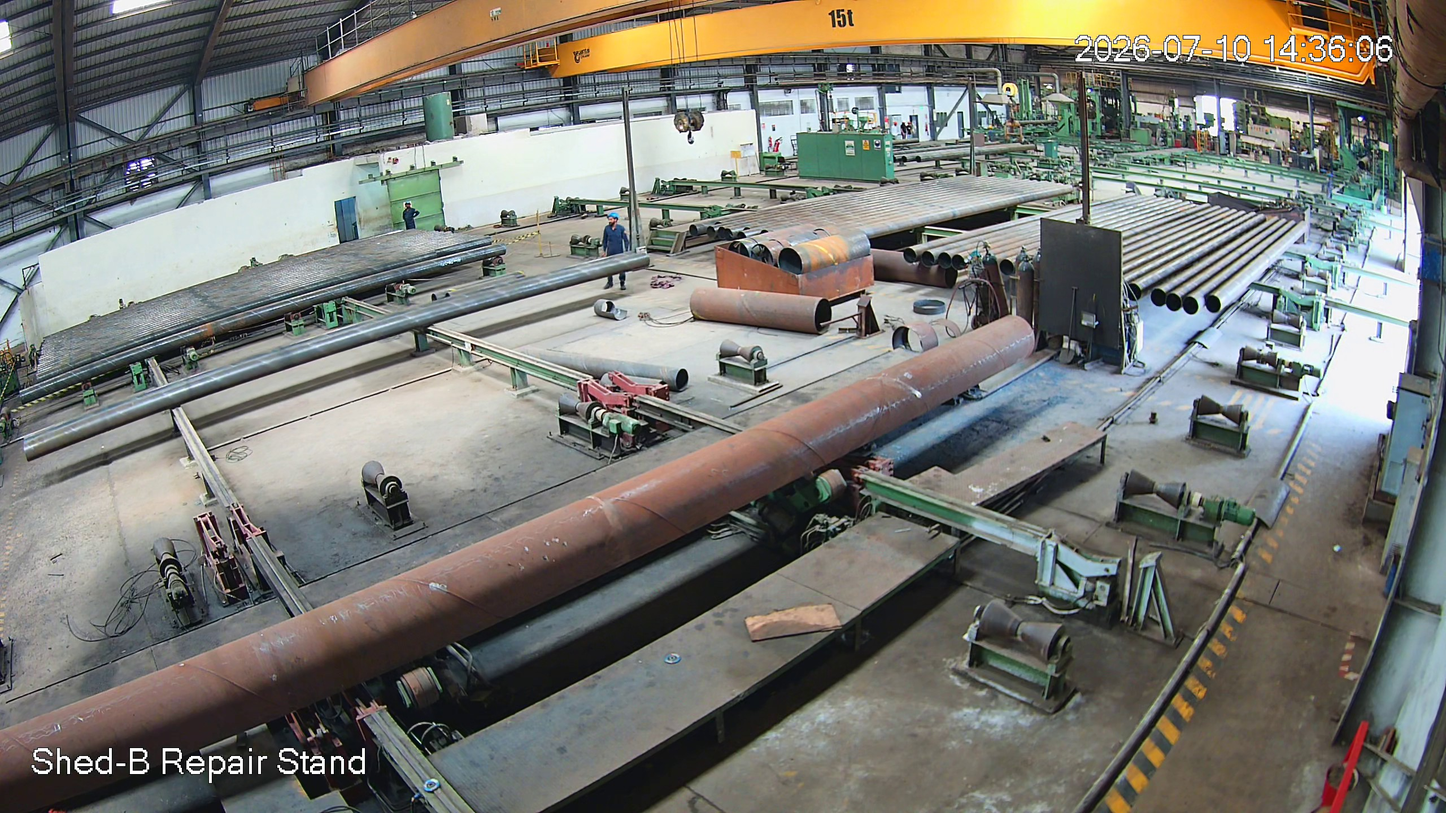Helmet: (605, 210, 625, 234)
Person: (601, 213, 631, 291)
